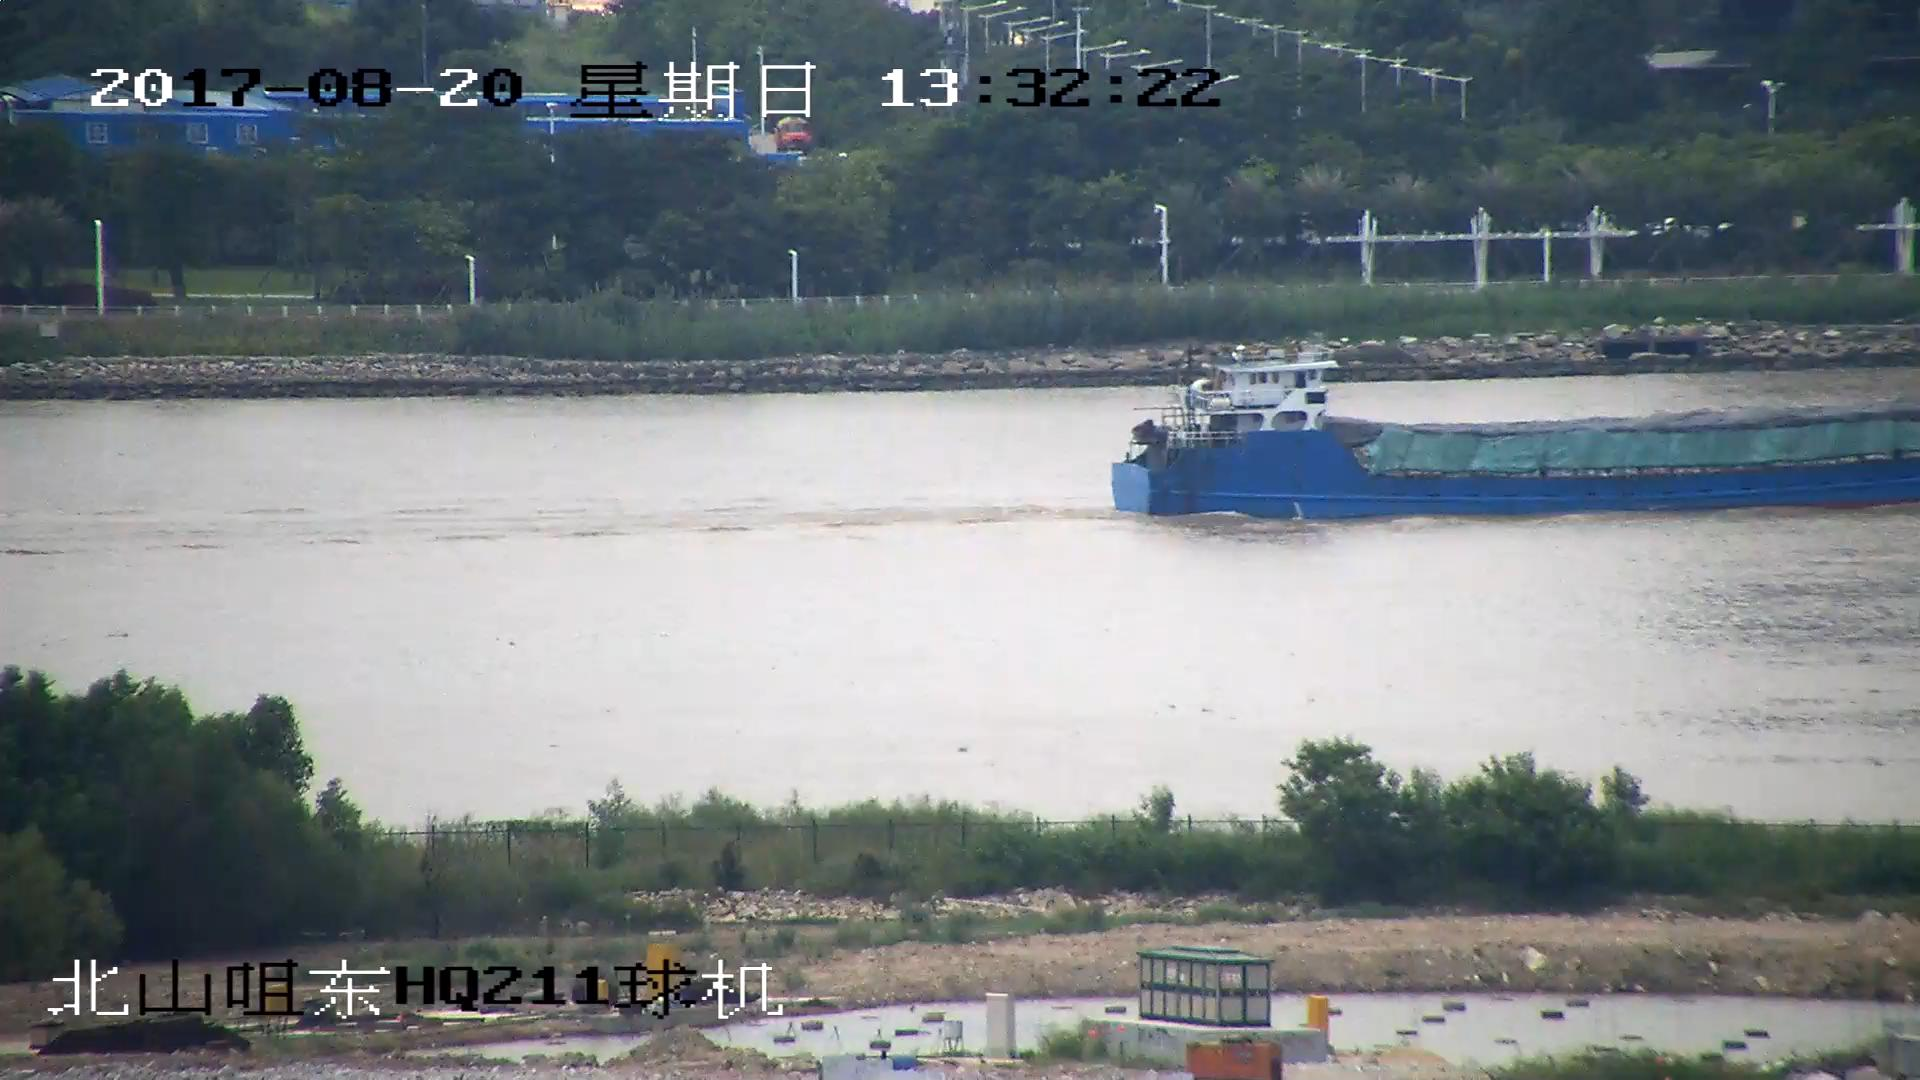general cargo ship: (1111, 344, 1920, 509)
